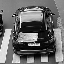motor: (17, 5, 54, 55)
